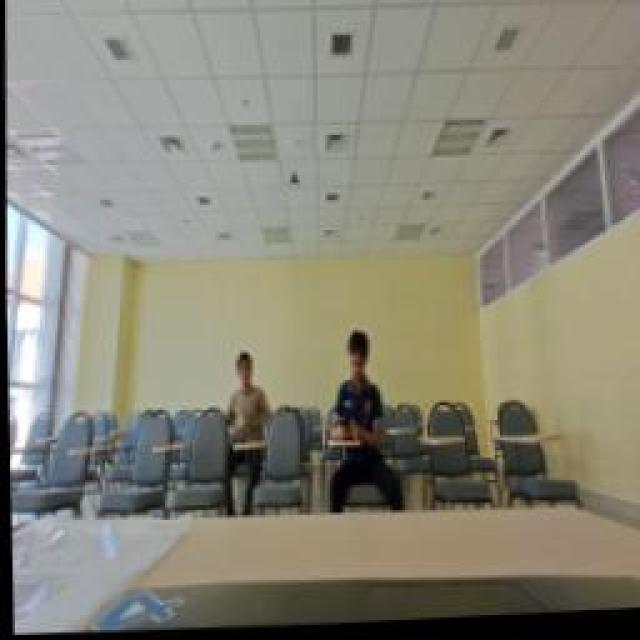phone: (325, 330, 383, 448)
study: (220, 345, 265, 443)
